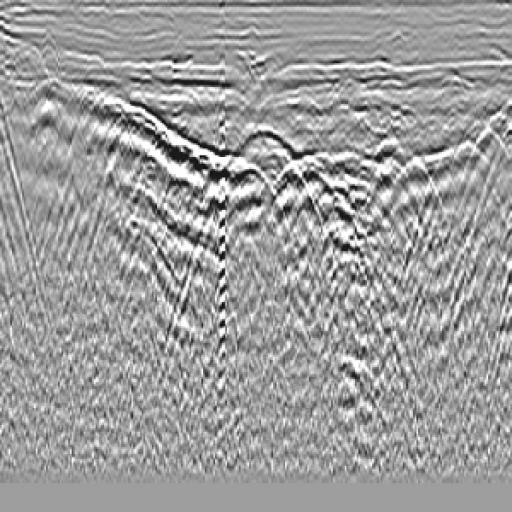metalic: (204, 126, 310, 253), (172, 182, 178, 183)
